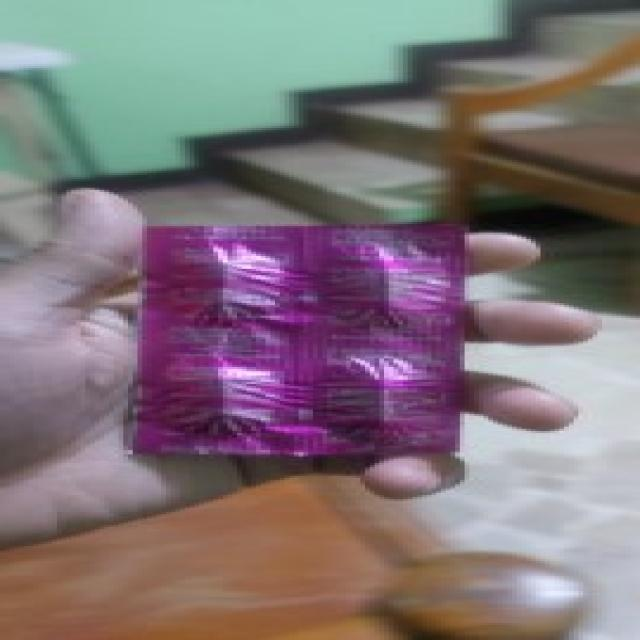Cacat: (133, 223, 460, 455)
